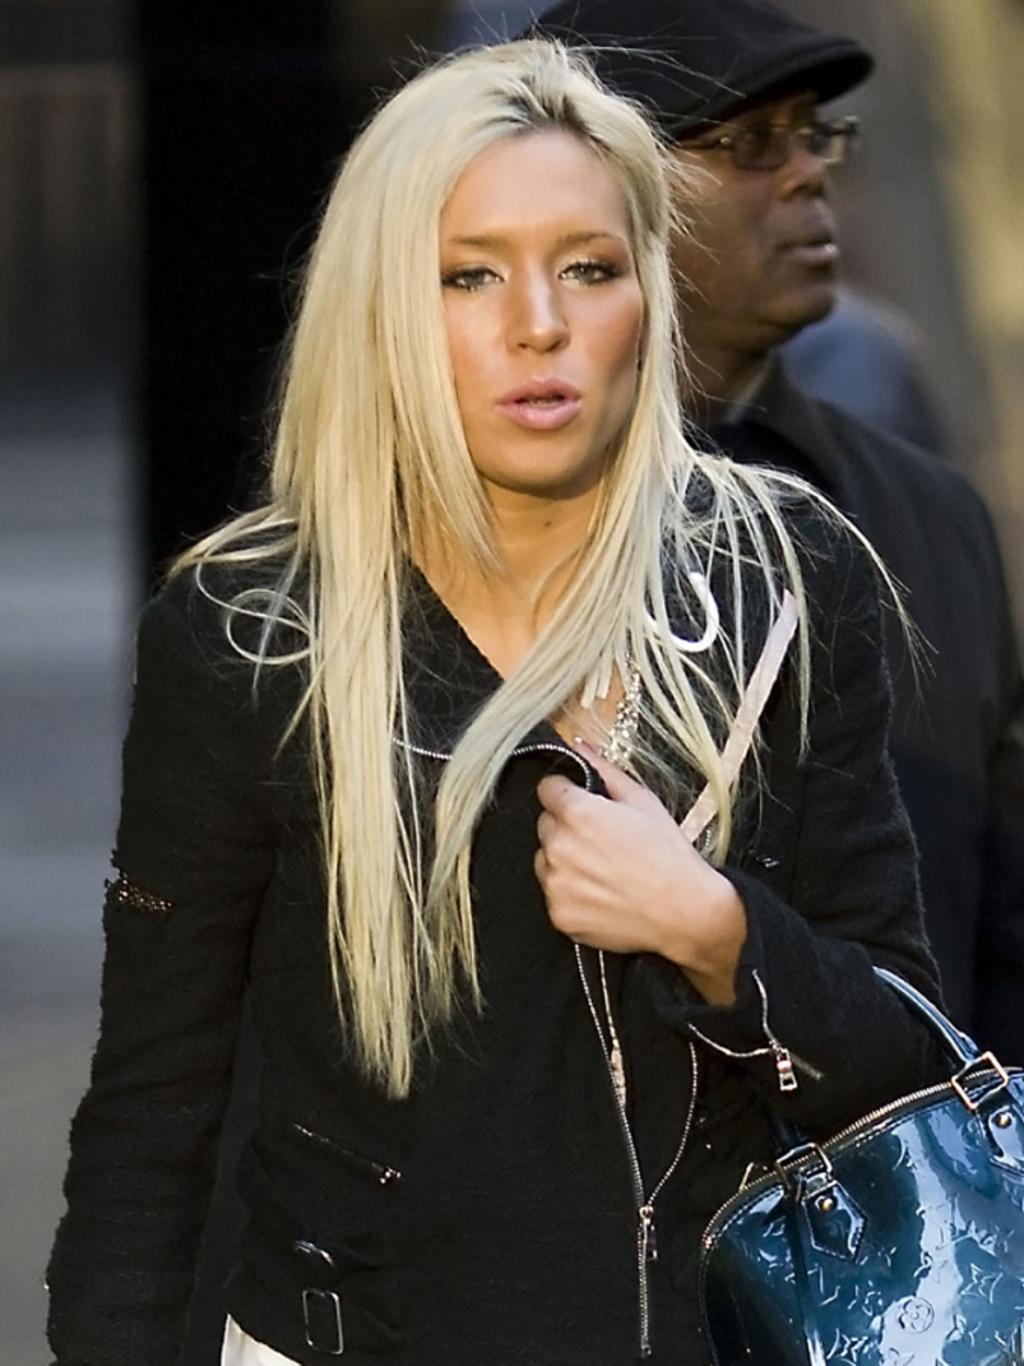face: (435, 149, 648, 477), (688, 40, 853, 307)
